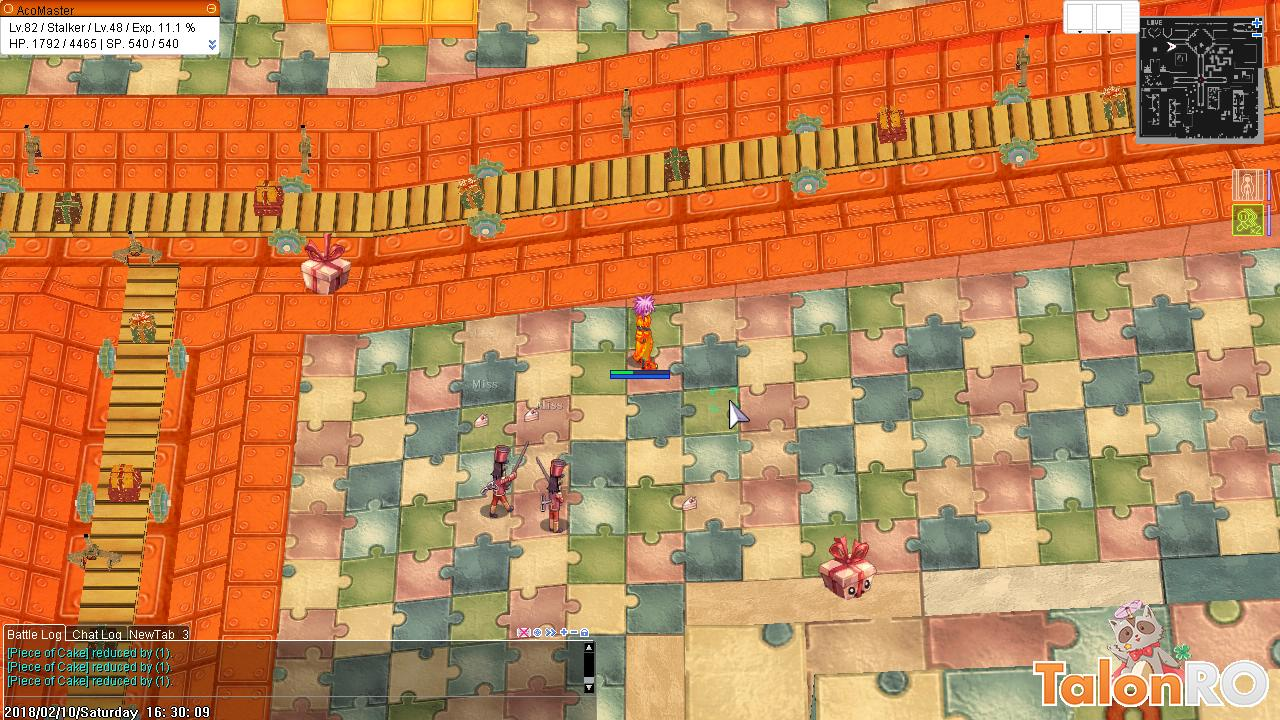loot: (463, 408, 497, 435), (516, 404, 547, 433), (677, 493, 704, 516)
mob: (478, 434, 531, 523), (528, 452, 575, 548)
myst_case: (296, 230, 358, 304), (813, 531, 875, 604)
